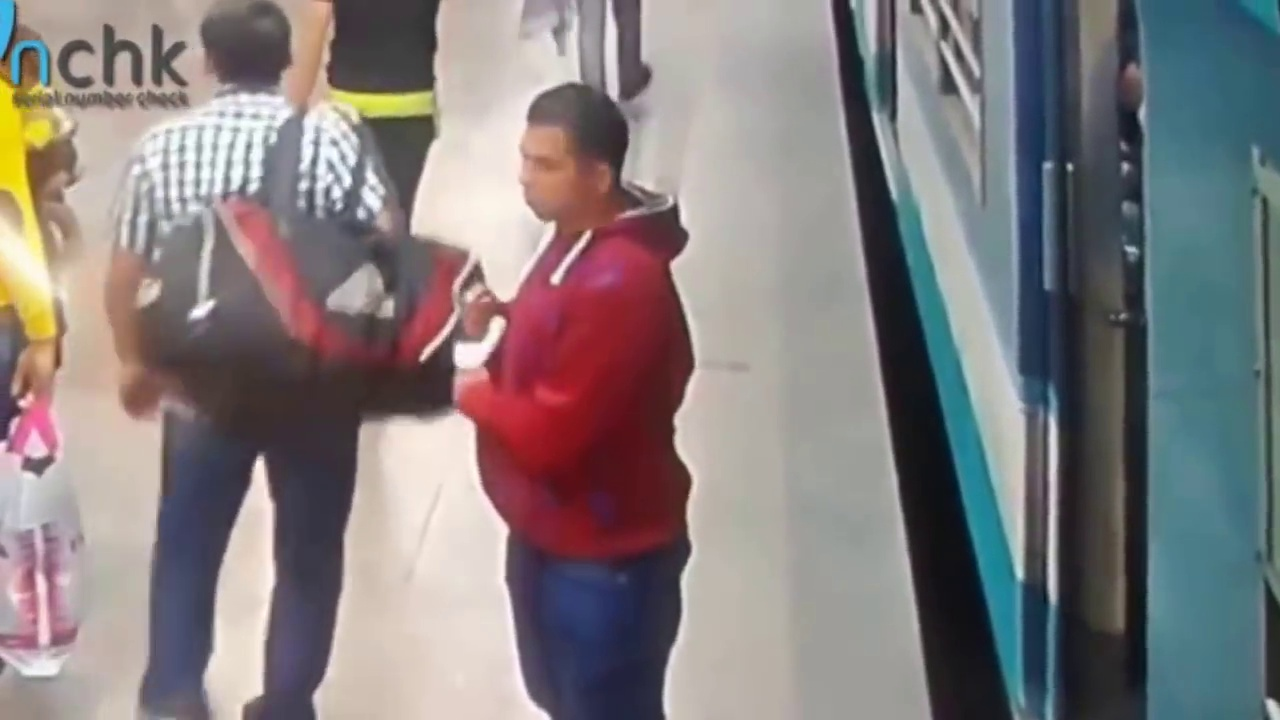face: (517, 127, 574, 226)
